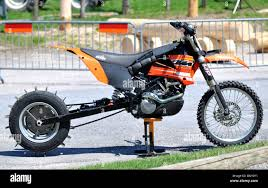motorcycle: (6, 19, 264, 154)
